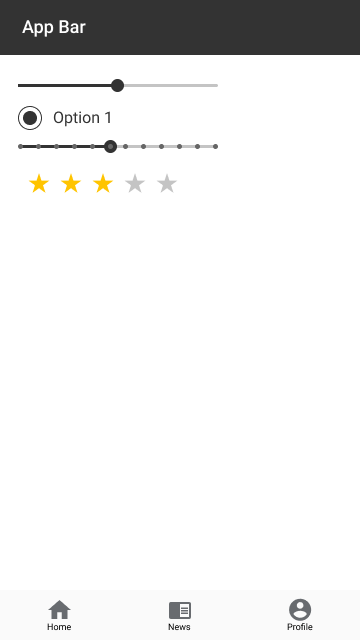navigationButton: (2, 595, 357, 640)
radioButton: (15, 102, 116, 132)
ratingBar: (23, 171, 181, 196)
slider: (16, 139, 222, 155)
slider1: (16, 75, 222, 93)
toolbar: (1, 1, 359, 54)
